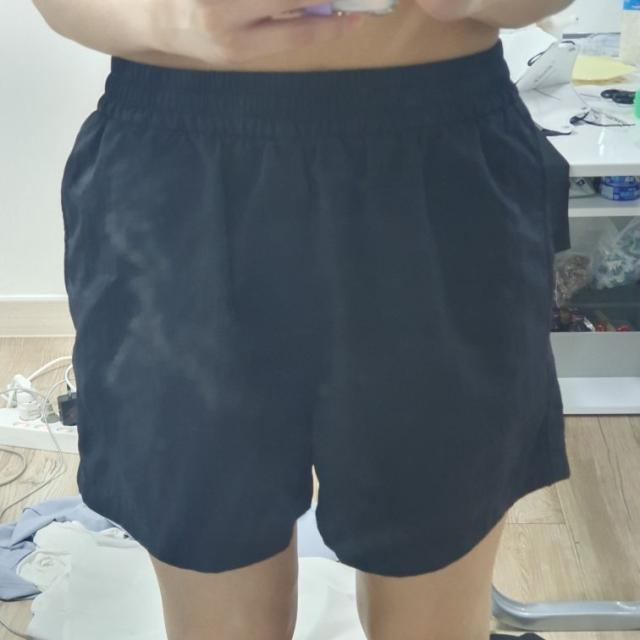shortpants: (60, 54, 576, 571)
